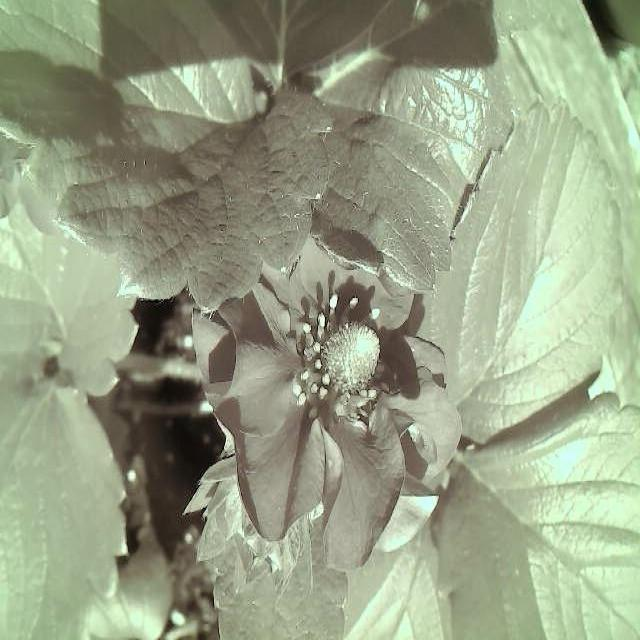flower: (185, 220, 472, 574)
